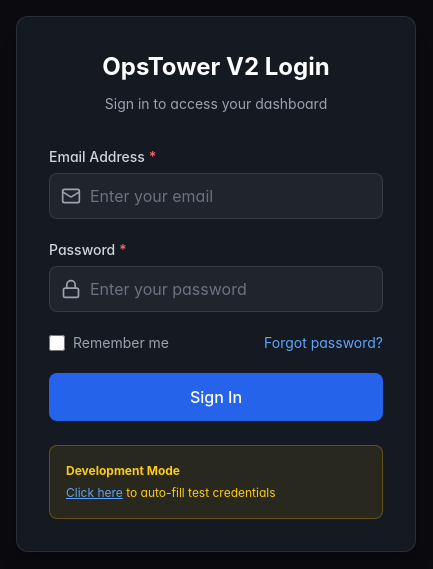
Test case: LoginPage › should auto-fill credentials when dev helper is clicked
Step 1. Click the button "Click here" → (94,493), box [66, 484, 123, 502]
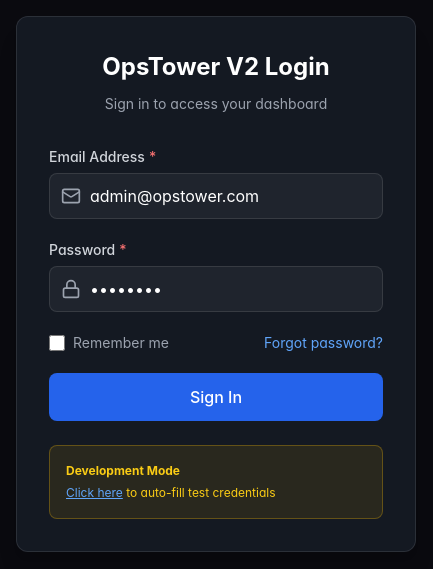
Now the field with placeholder "Enter your email" holds "admin@opstower.com", box [49, 173, 383, 219]
Now the password field with placeholder "Enter your password" holds "admin123", box [49, 266, 383, 312]
